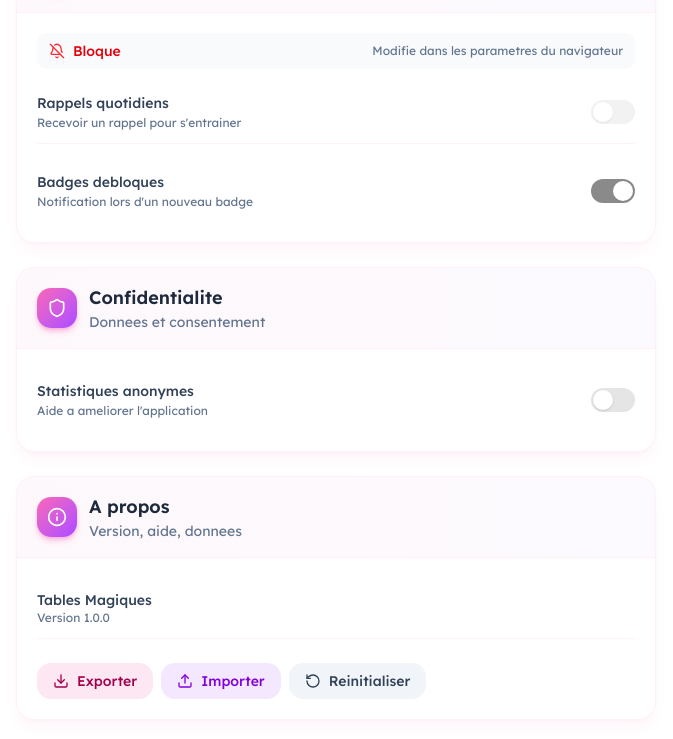
Test: SettingsPage › Actions › shows confirmation on reset button click
(page scrolled)
Click the button "Reinitialiser" at (358, 681), box [289,663,426,699]
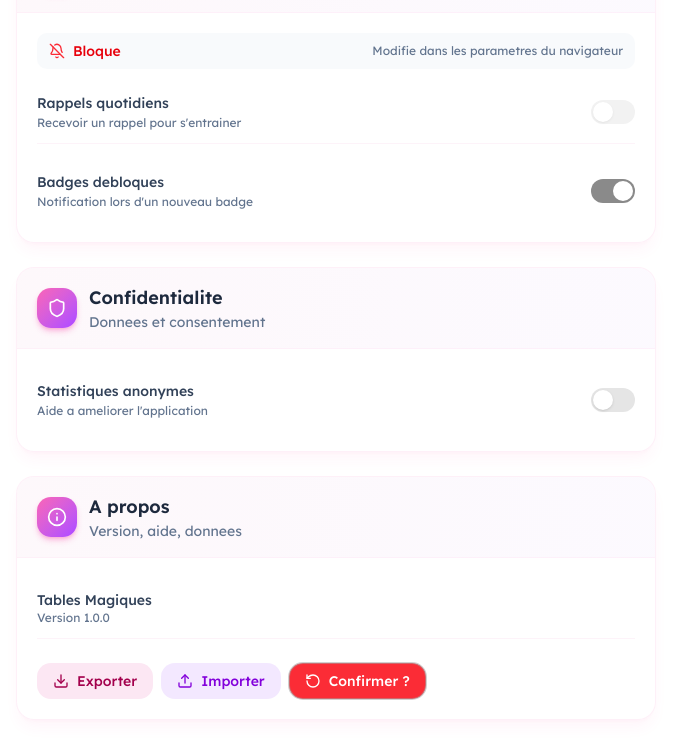
expect the button "Confirmer ?" is shown: met, box [289,663,426,699]
